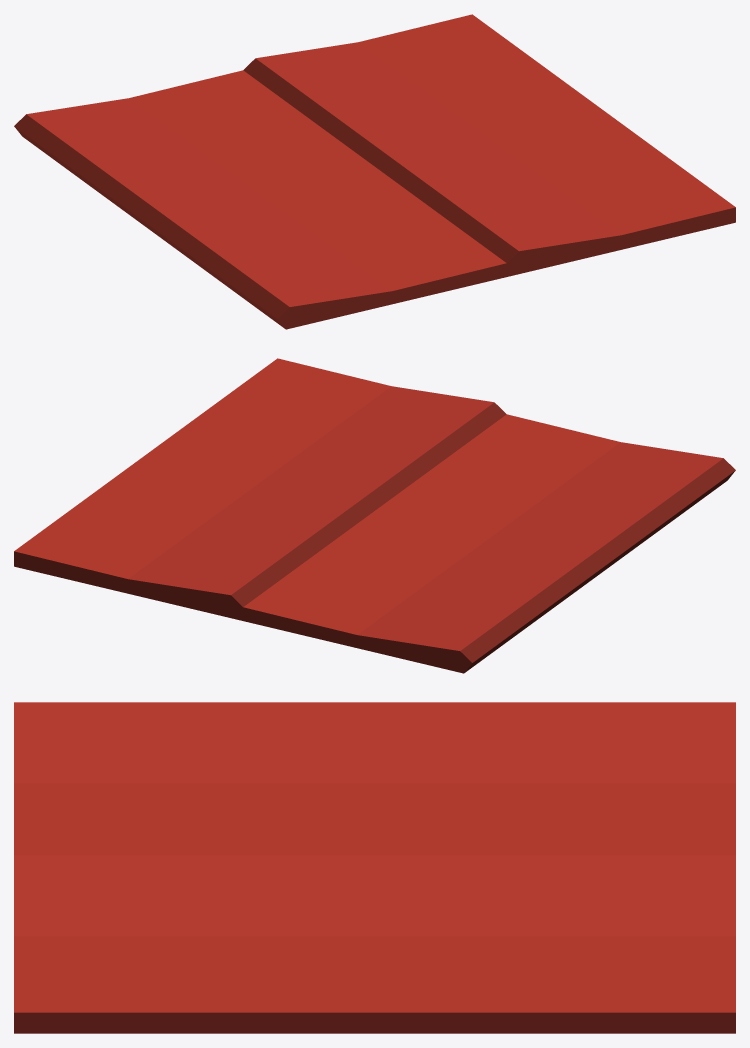
File: Floor_2_Red.fbx
The picture shows the model from 3 angles, top to bottom: view 1: azimuth 30°, elevation 25°; view 2: azimuth 150°, elevation 25°; view 3: azimuth 270°, elevation 25°; orthographic projection. The views are drawn at different scales.
Parts seen in each view (by area): view 1: Floor_2_Red_Part_1, Floor_2_Red_Part_2; view 2: Floor_2_Red_Part_1, Floor_2_Red_Part_2; view 3: Floor_2_Red_Part_1, Floor_2_Red_Part_2.
Part boxes in pixels (x1,y1,x2,y2): Floor_2_Red_Part_1: (26,14,735,306); Floor_2_Red_Part_2: (14,58,735,329); Floor_2_Red_Part_1: (14,358,723,650); Floor_2_Red_Part_2: (14,402,735,673); Floor_2_Red_Part_1: (14,702,735,1012); Floor_2_Red_Part_2: (14,1012,735,1033).
Bounding box in the file's own units: 502 × 25.44 × 500.
